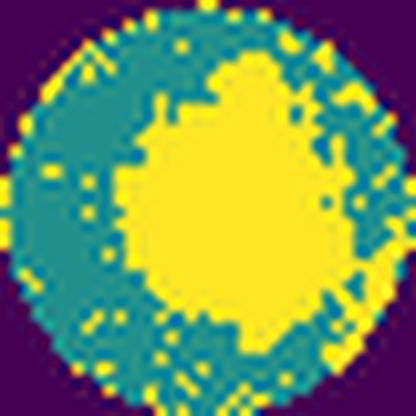Loc: (118, 49, 410, 375)
